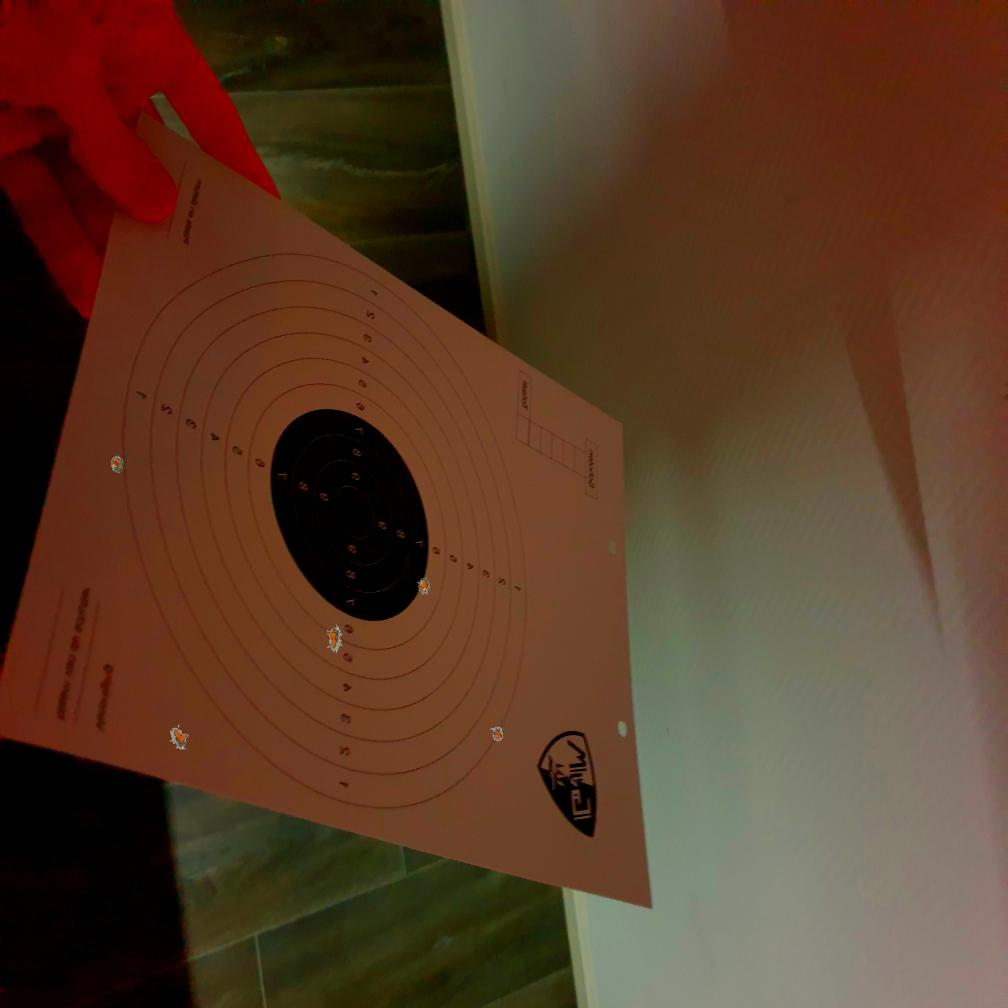0: (111, 455, 124, 474), (169, 727, 181, 742), (177, 732, 187, 750)
1: (490, 726, 504, 741)
5: (328, 640, 342, 652)
6: (327, 624, 342, 640)
7: (417, 577, 430, 595)
Target: (119, 249, 530, 812)
black_contour: (271, 406, 428, 622)
